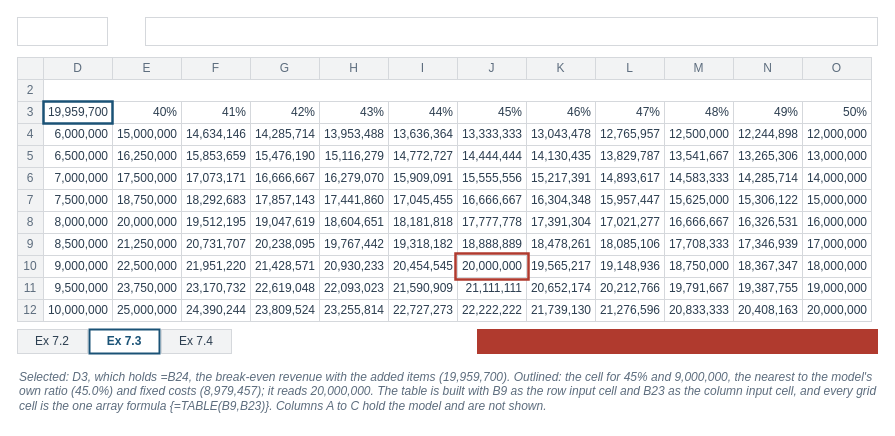
This 895x436 diagram has some shape labels left out. The shapes that lost their labels are listed below. From the top down, each one's box as (x1, y1, x2, y2) in pixels, then its label:
(16, 16, 108, 46): D3
(110, 16, 142, 46): fx
(144, 16, 878, 46): =B24
(42, 78, 872, 102): Break-even revenue: fixed costs (down) by contribution margin ratio (across)
(476, 328, 878, 354): Outlined: the cell nearest the model's own ratio and fixed costs
